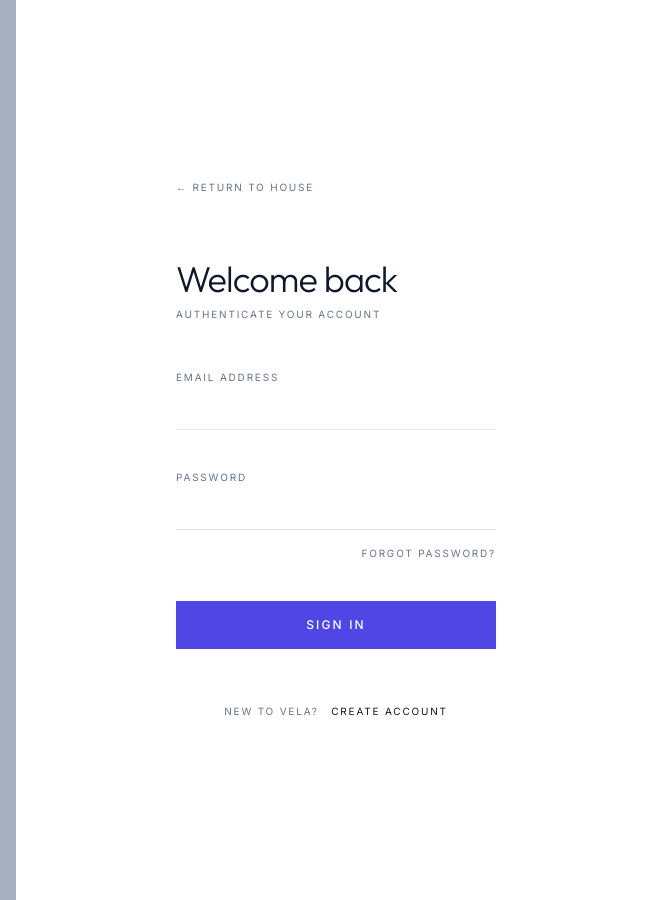
shows the server error message on failure
Type "client@example.com" into the field labelled "Email Address" at (336, 411), box [176, 392, 496, 430]
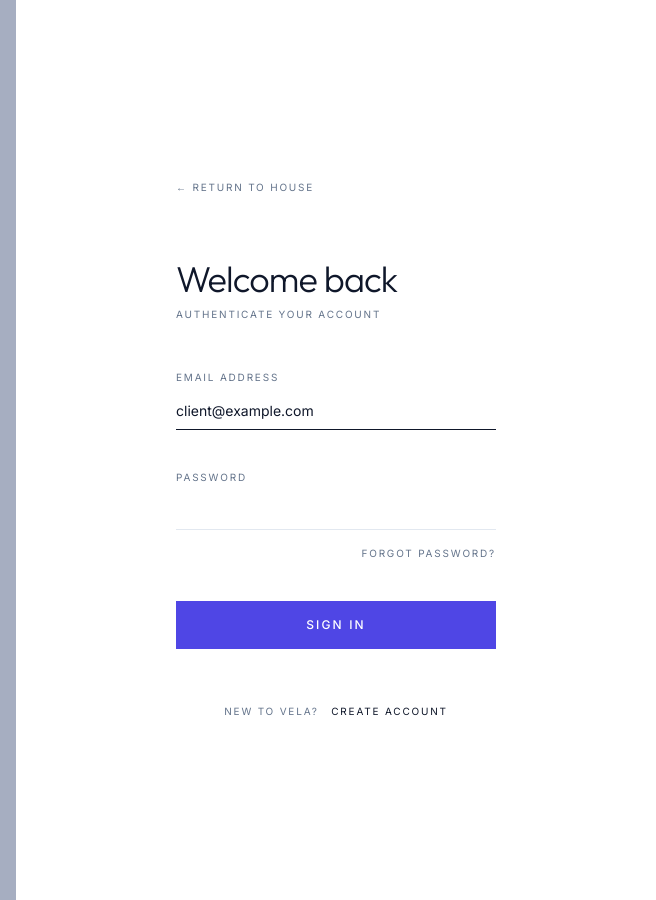
Type "wrong" into the password field labelled "Password" at (336, 511), box [176, 492, 496, 530]
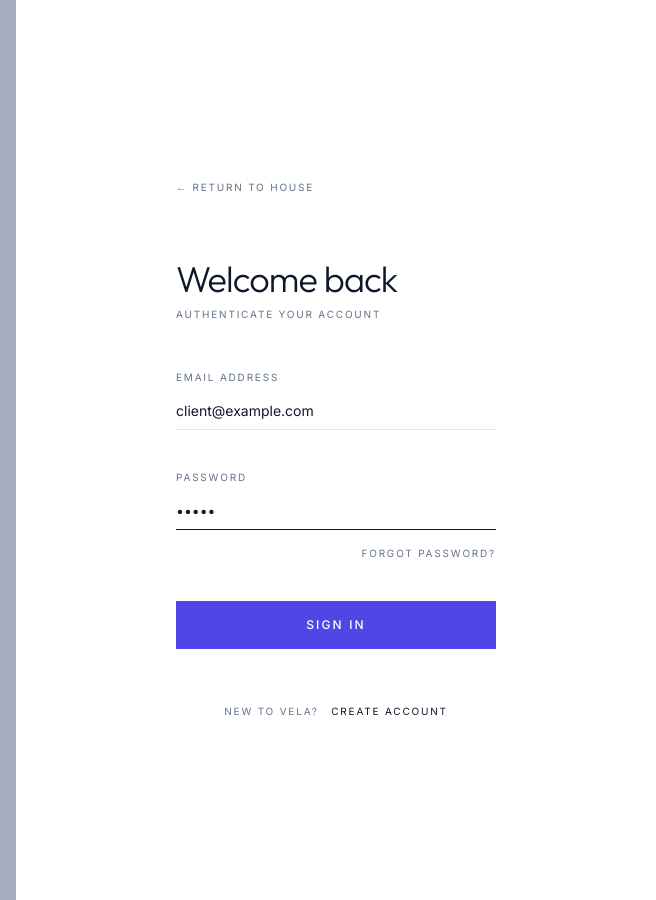
Click the button "Sign In" at (336, 624), box [176, 600, 496, 648]
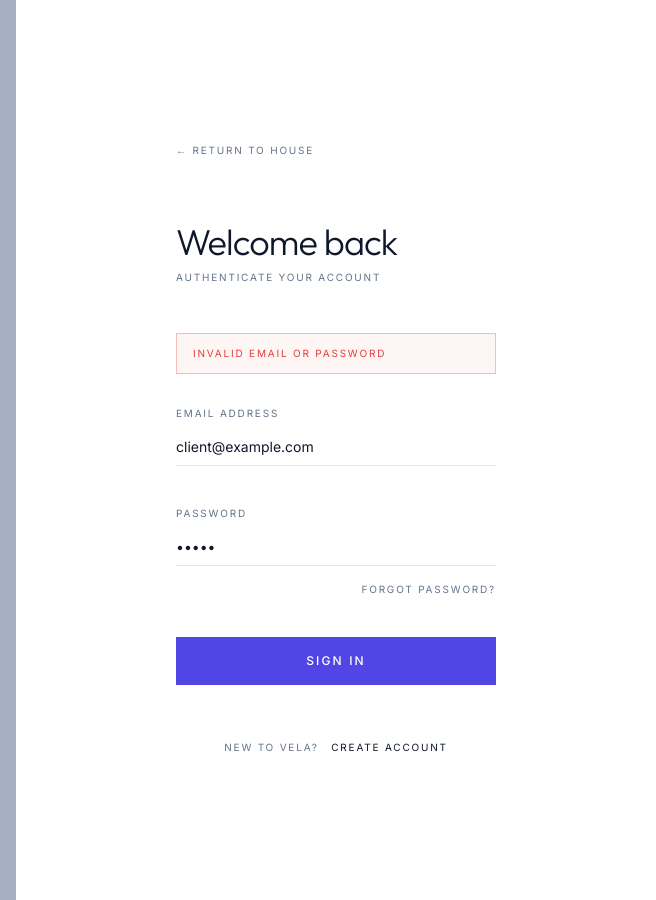
Expected: the message reads "Invalid email or password", [193, 347, 386, 359]
